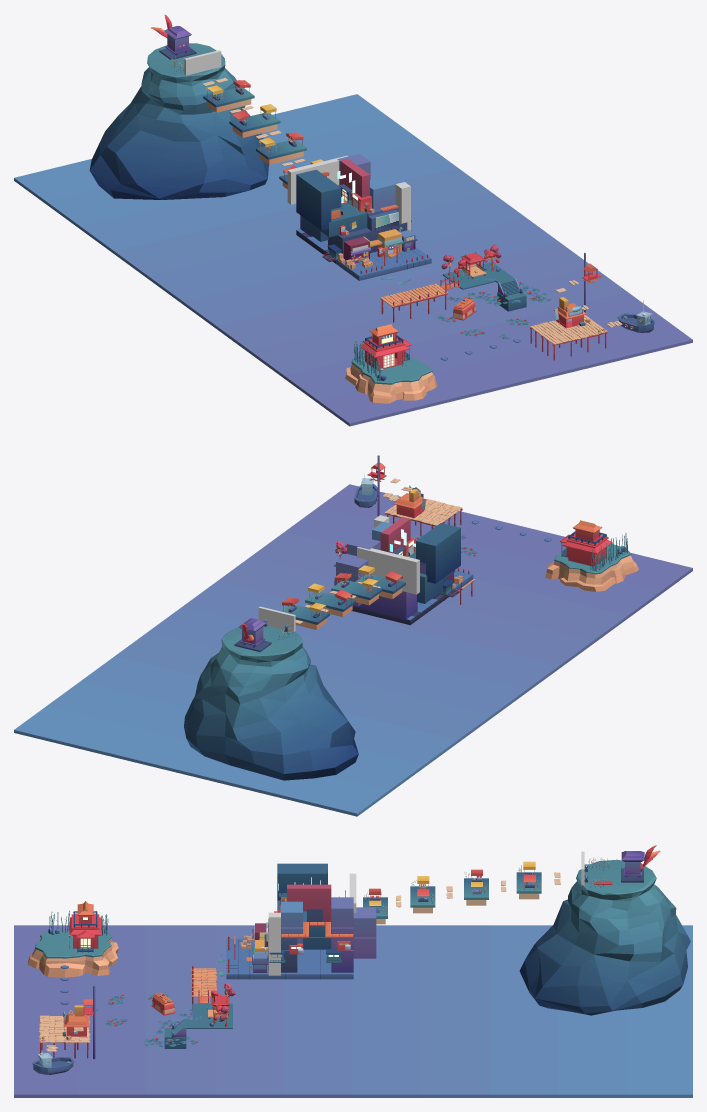
Rendered from envSetting.glb.
The picture shows the model from 3 angles, top to bottom: view 1: azimuth 30°, elevation 25°; view 2: azimuth 150°, elevation 25°; view 3: azimuth 270°, elevation 25°; orthographic projection.
Parts seen in each view (by area): view 1: ground, Cylinder.003, Cube.009, Cube, Plane.001, sideroof, fishingground.001, Plane.002, Cube.051, cityentranceground, Cube.047, Cube.025 (+9 smaller); view 2: ground, Cylinder.003, Cube.009, Plane.001, sideroof, festivalTrigger, Cube.050, fishingground.001, Cube.044, Cube, Plane.002, Cube.025 (+8 smaller); view 3: ground, Cylinder.003, Cube, Cube.050, Plane.001, sideroof, Plane.002, Cube.009, Cube.033, fishingground.001, Cube.025, cube8.001 (+12 smaller).
Part boxes in pixels (<box>): ground: <box>14,94,692,426</box>; Cylinder.003: <box>89,43,268,199</box>; Cube.009: <box>296,169,341,230</box>; Cube: <box>296,229,431,280</box>; Plane.001: <box>345,364,437,403</box>; sideroof: <box>359,324,411,370</box>; fishingground.001: <box>530,315,607,360</box>; Plane.002: <box>351,353,432,384</box>; Cube.051: <box>302,200,367,241</box>; cityentranceground: <box>380,283,448,322</box>; Cube.047: <box>328,208,407,258</box>; Cube.025: <box>151,14,196,59</box>; ground: <box>14,484,692,816</box>; Cylinder.003: <box>184,625,358,780</box>; Cube.009: <box>416,523,460,583</box>; Plane.001: <box>545,551,638,591</box>; sideroof: <box>560,520,612,566</box>; festivalTrigger: <box>357,547,419,594</box>; Cube.050: <box>334,536,380,606</box>; fishingground.001: <box>384,498,462,536</box>; Cube.044: <box>352,591,417,619</box>; Cube: <box>351,570,473,625</box>; Plane.002: <box>554,543,631,574</box>; Cube.025: <box>234,618,271,652</box>; ground: <box>14,925,692,1097</box>; Cylinder.003: <box>519,859,690,1015</box>; Cube: <box>226,938,353,979</box>; Cube.050: <box>331,897,376,958</box>; Plane.001: <box>27,938,118,977</box>; sideroof: <box>69,901,101,952</box>; Plane.002: <box>35,929,111,958</box>; Cube.009: <box>277,863,327,900</box>; Cube.033: <box>287,884,331,921</box>; fishingground.001: <box>39,1015,90,1058</box>; Cube.025: <box>621,845,660,882</box>; cube8.001: <box>184,1003,232,1028</box>.
Size of what is drawn, in the model's own units: 239 by 98 by 405.
Materials: 13 (1 with a texture image).
